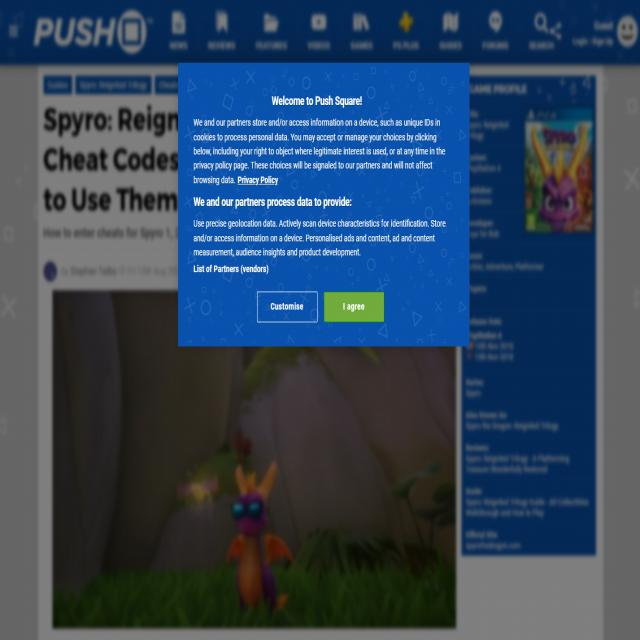sneaking: (180, 63, 472, 346), (251, 283, 393, 332)
